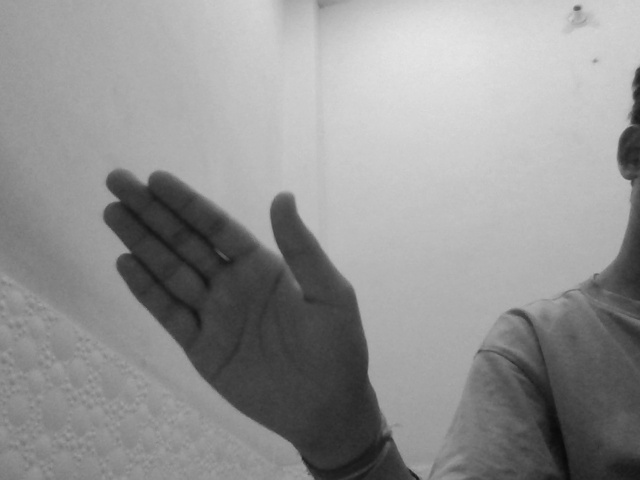Hello: (98, 163, 376, 447)
